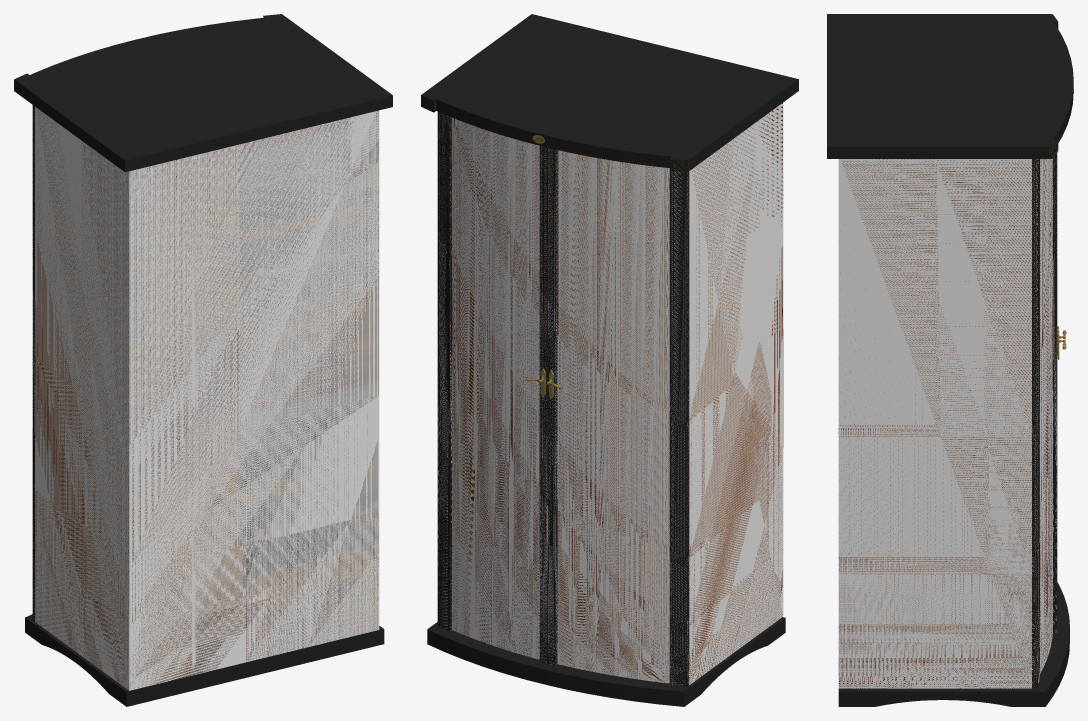
3 renders of one model, left to right at view 1: azimuth 30°, elevation 25°; view 2: azimuth 150°, elevation 25°; view 3: azimuth 270°, elevation 25°, orthographic.
Visible parts, largest first — view 1: mesh54_mesh54-geometry, mesh1_mesh1-geometry, mesh5_mesh5-geometry; view 2: mesh54_mesh54-geometry, mesh1_mesh1-geometry, mesh5_mesh5-geometry; view 3: mesh54_mesh54-geometry, mesh1_mesh1-geometry, mesh5_mesh5-geometry.
Boxes of the visible parts, x1,y1,x2,y2 form: mesh54_mesh54-geometry: (32,105,379,690); mesh1_mesh1-geometry: (14,14,392,172); mesh5_mesh5-geometry: (25,614,384,706); mesh54_mesh54-geometry: (437,102,783,686); mesh1_mesh1-geometry: (421,14,798,171); mesh5_mesh5-geometry: (427,617,785,706); mesh54_mesh54-geometry: (838,153,1057,688); mesh1_mesh1-geometry: (827,14,1073,158); mesh5_mesh5-geometry: (838,582,1069,706).
Size of the model in its own units: 0.4263 by 0.8404 by 0.3347.
